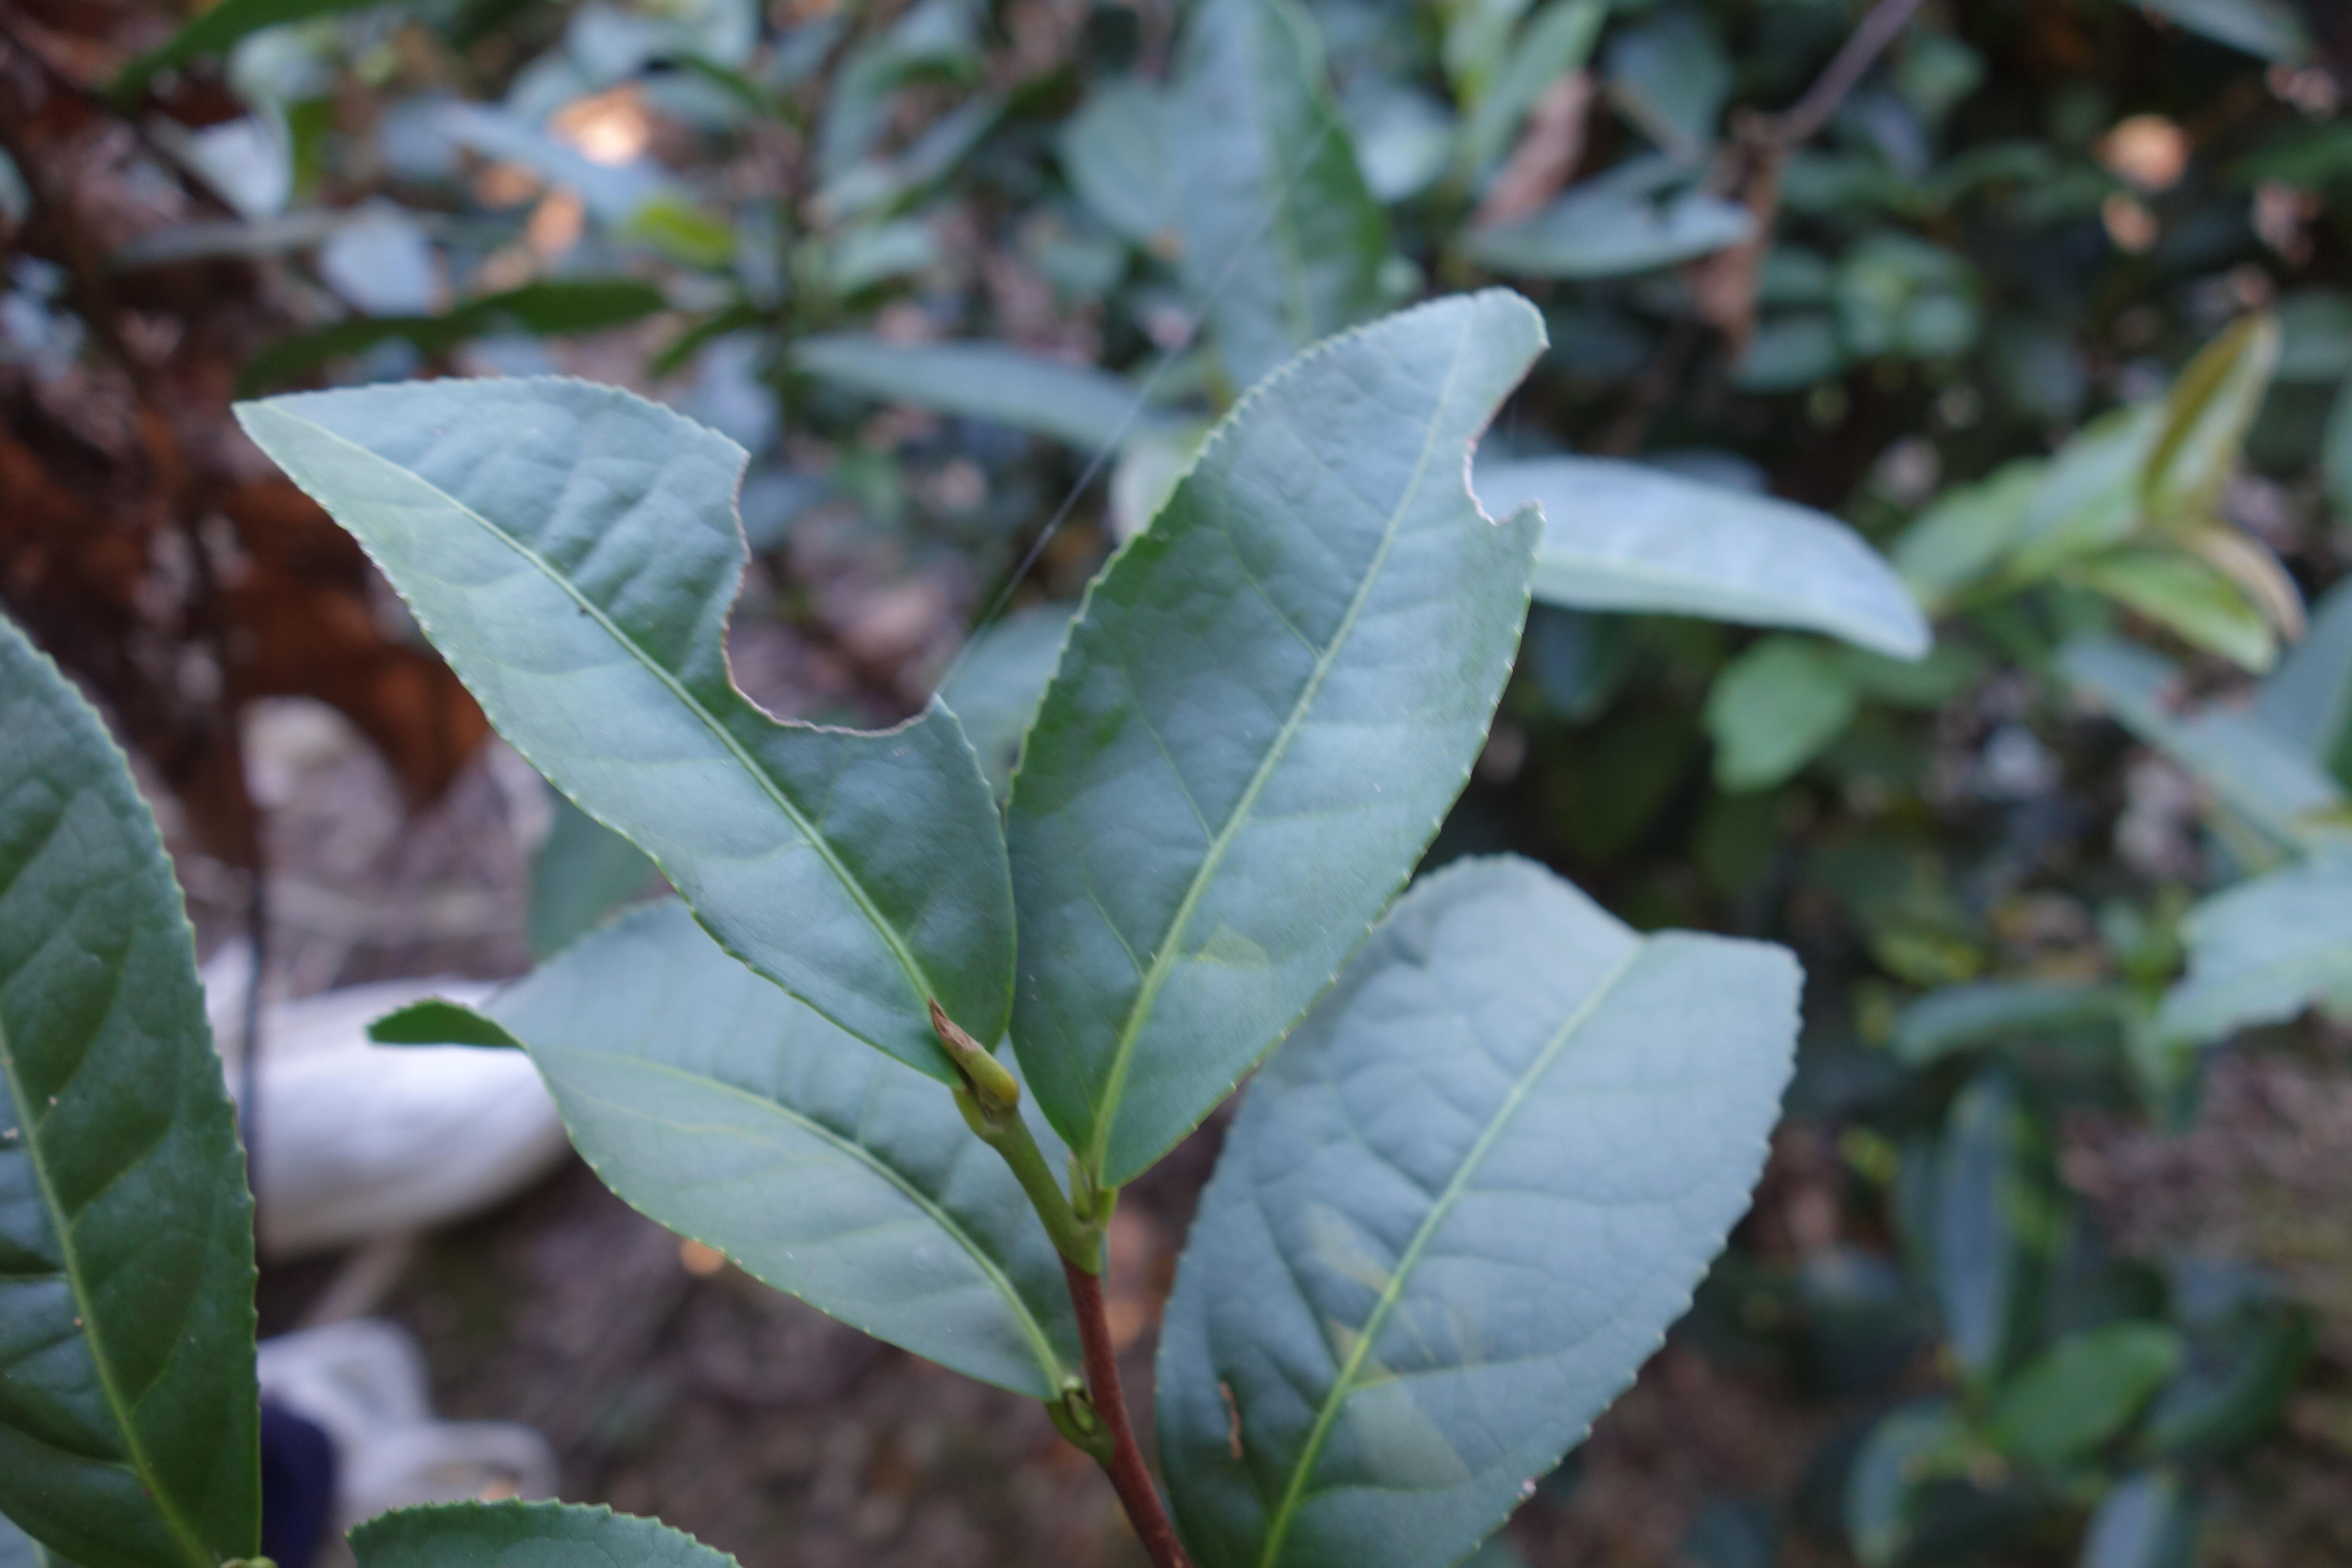chihuo_low: (231, 374, 1018, 1085), (1008, 287, 1556, 1192), (1155, 849, 1811, 1561)
